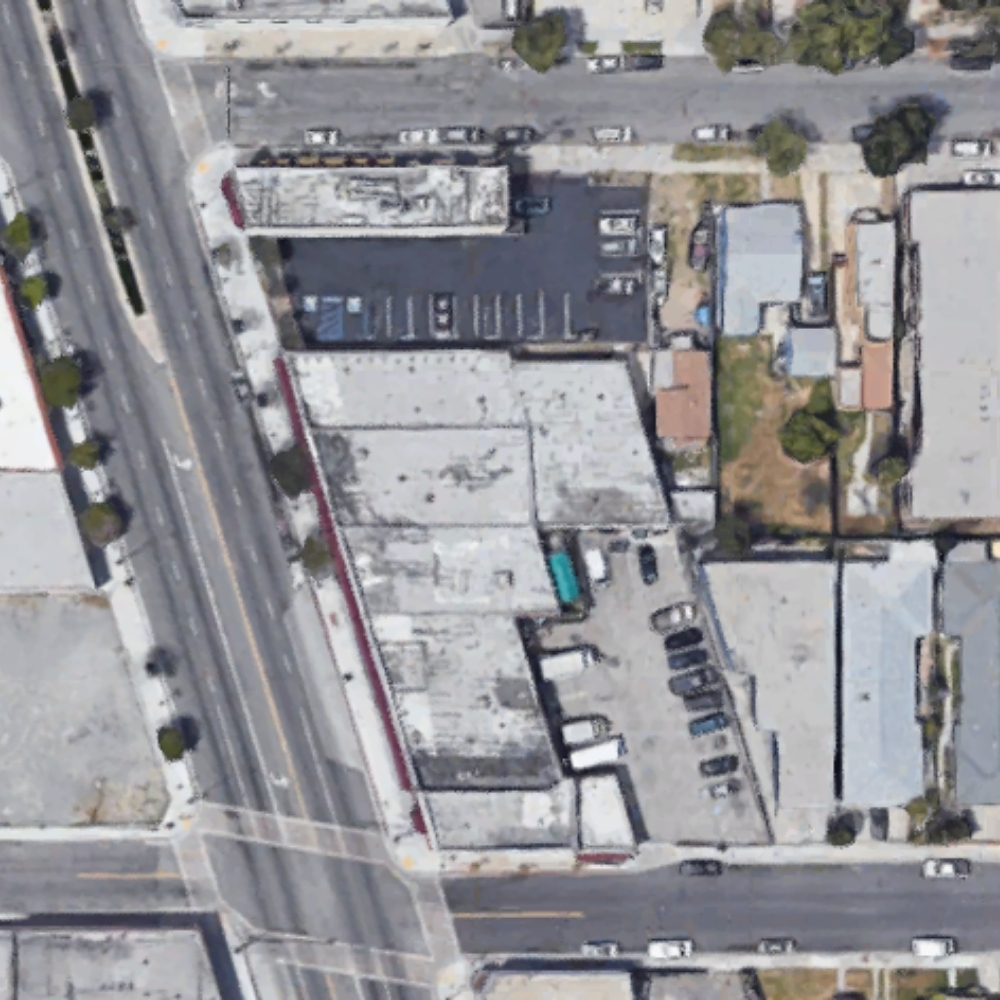parking: (490, 535, 775, 845), (235, 170, 645, 340)
